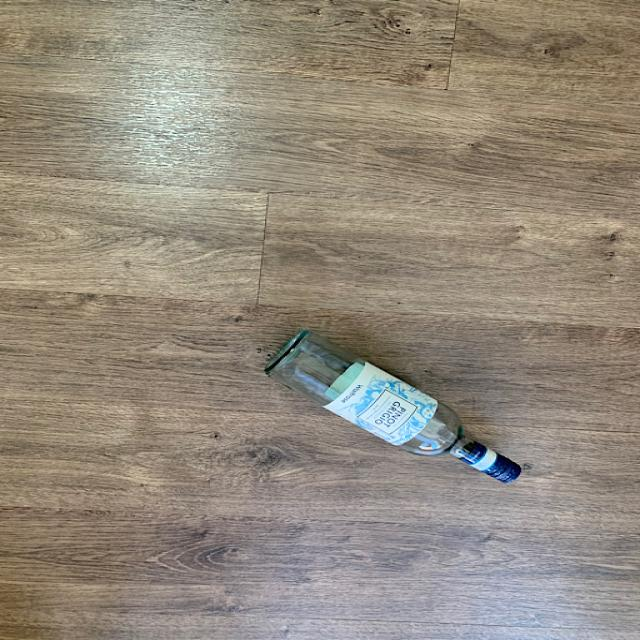litter: (255, 323, 535, 490)
